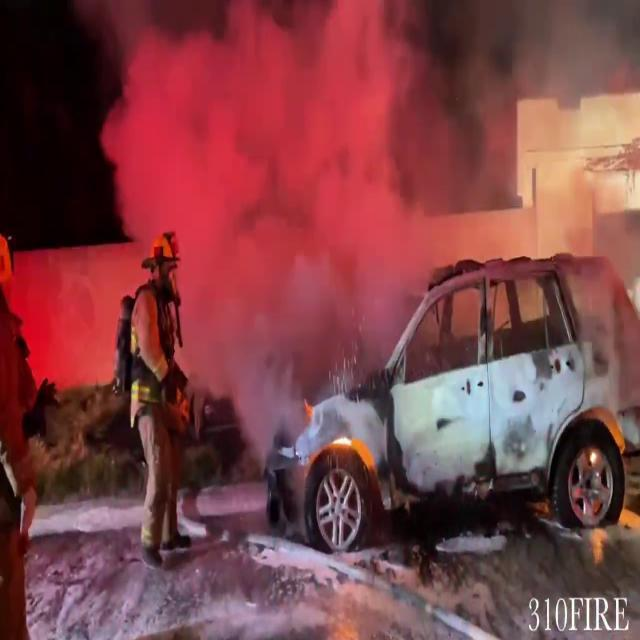Smoke: (95, 0, 636, 348)
